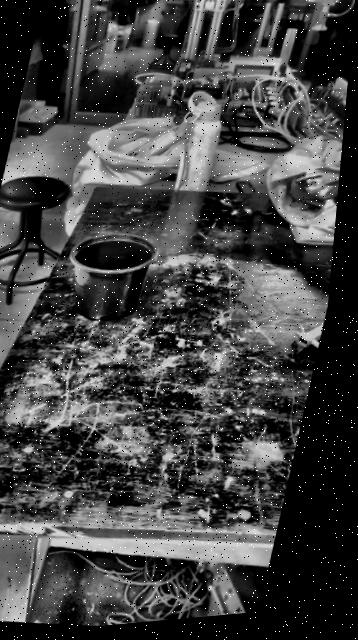pot: (56, 225, 161, 329)
